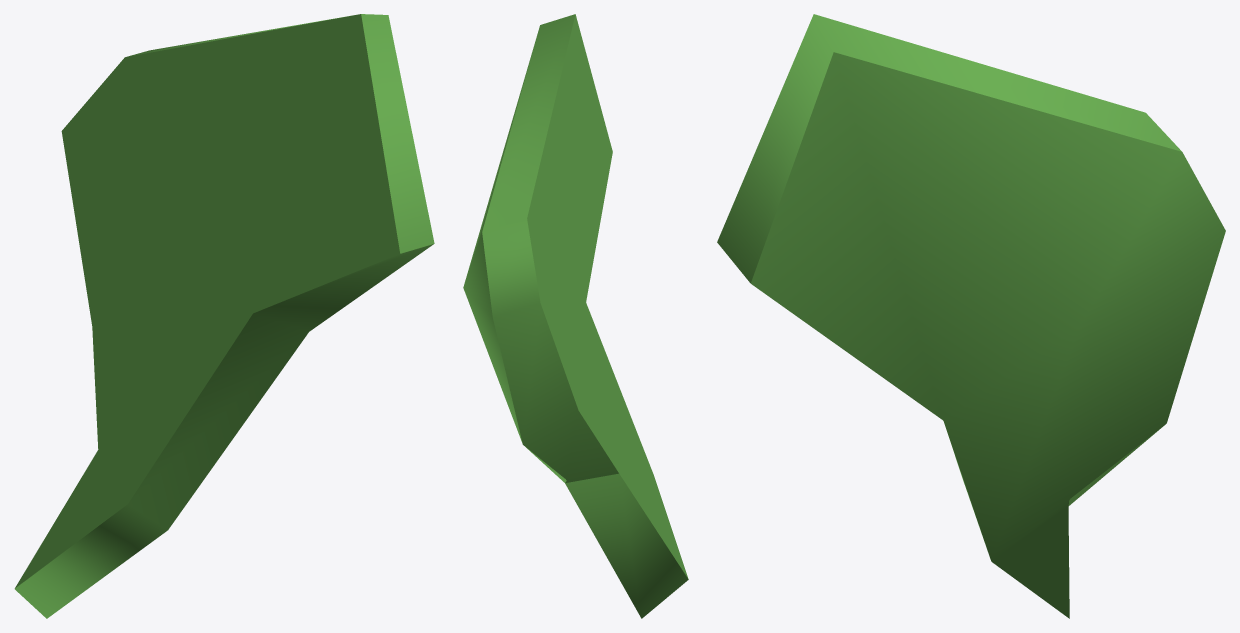
Rendered from ameeeee.fbx.
3 renders of one model, left to right at view 1: azimuth 30°, elevation 25°; view 2: azimuth 150°, elevation 25°; view 3: azimuth 270°, elevation 25°, orthographic. The views are drawn at different scales.
Visible parts, largest first — view 1: pCube8; view 2: pCube8; view 3: pCube8.
Boxes of the visible parts, box(x1,y1,x2,y2) form: pCube8: box(14, 14, 434, 618); pCube8: box(463, 14, 688, 618); pCube8: box(717, 14, 1225, 618).
Size of the model in its own units: 6.59 by 13.86 by 8.96.
